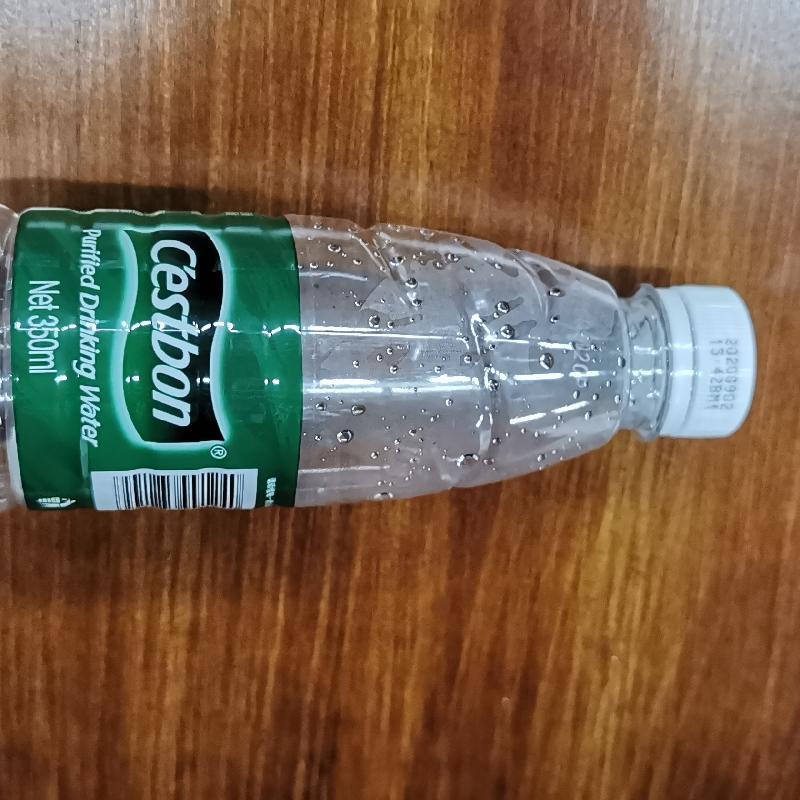bottles: (1, 193, 759, 514)
